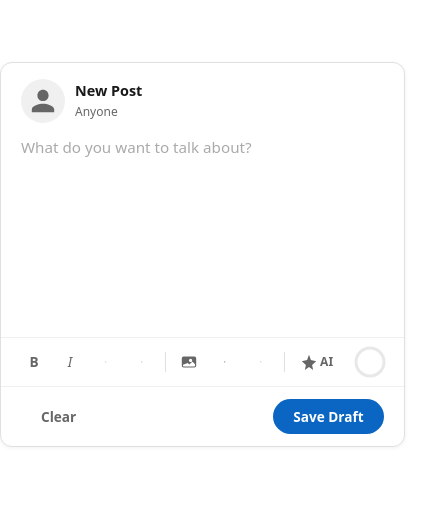
Test case: PostComposer › toggles schedule panel when icon is clicked
Expected: the field showing "09:00" is not shown
# Click to show
Click the button titled "Schedule": (261, 362) [244,344,278,378]
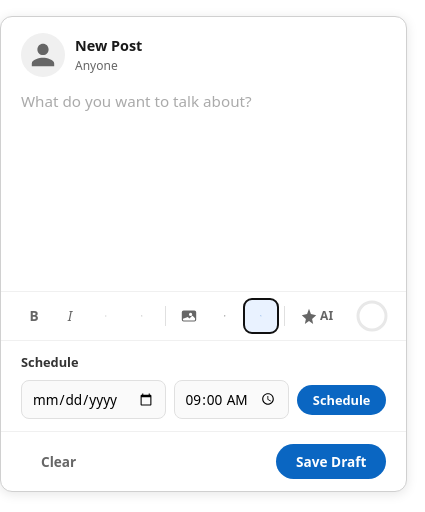
Expected: the time field showing "09:00" is shown, [174,380,289,419]
